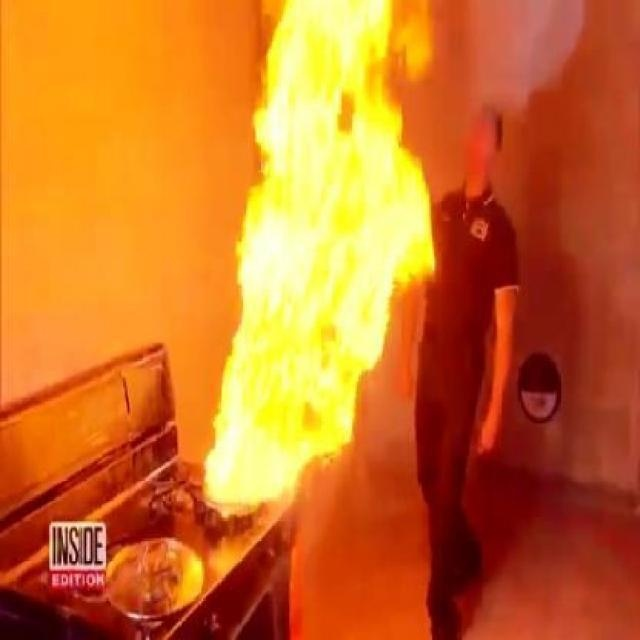fire: (162, 4, 466, 524)
